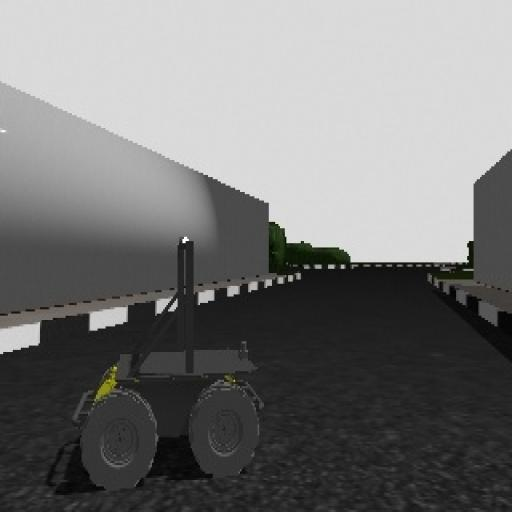huskya200: (57, 232, 272, 488)
